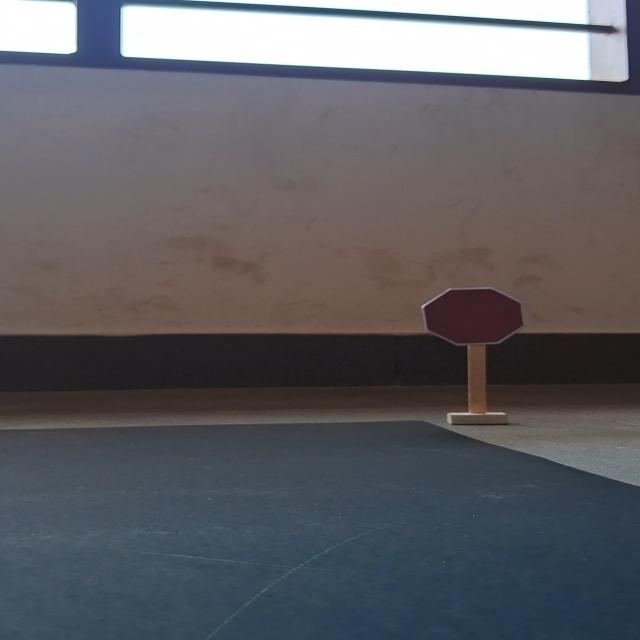Stop: (422, 287, 526, 346)
